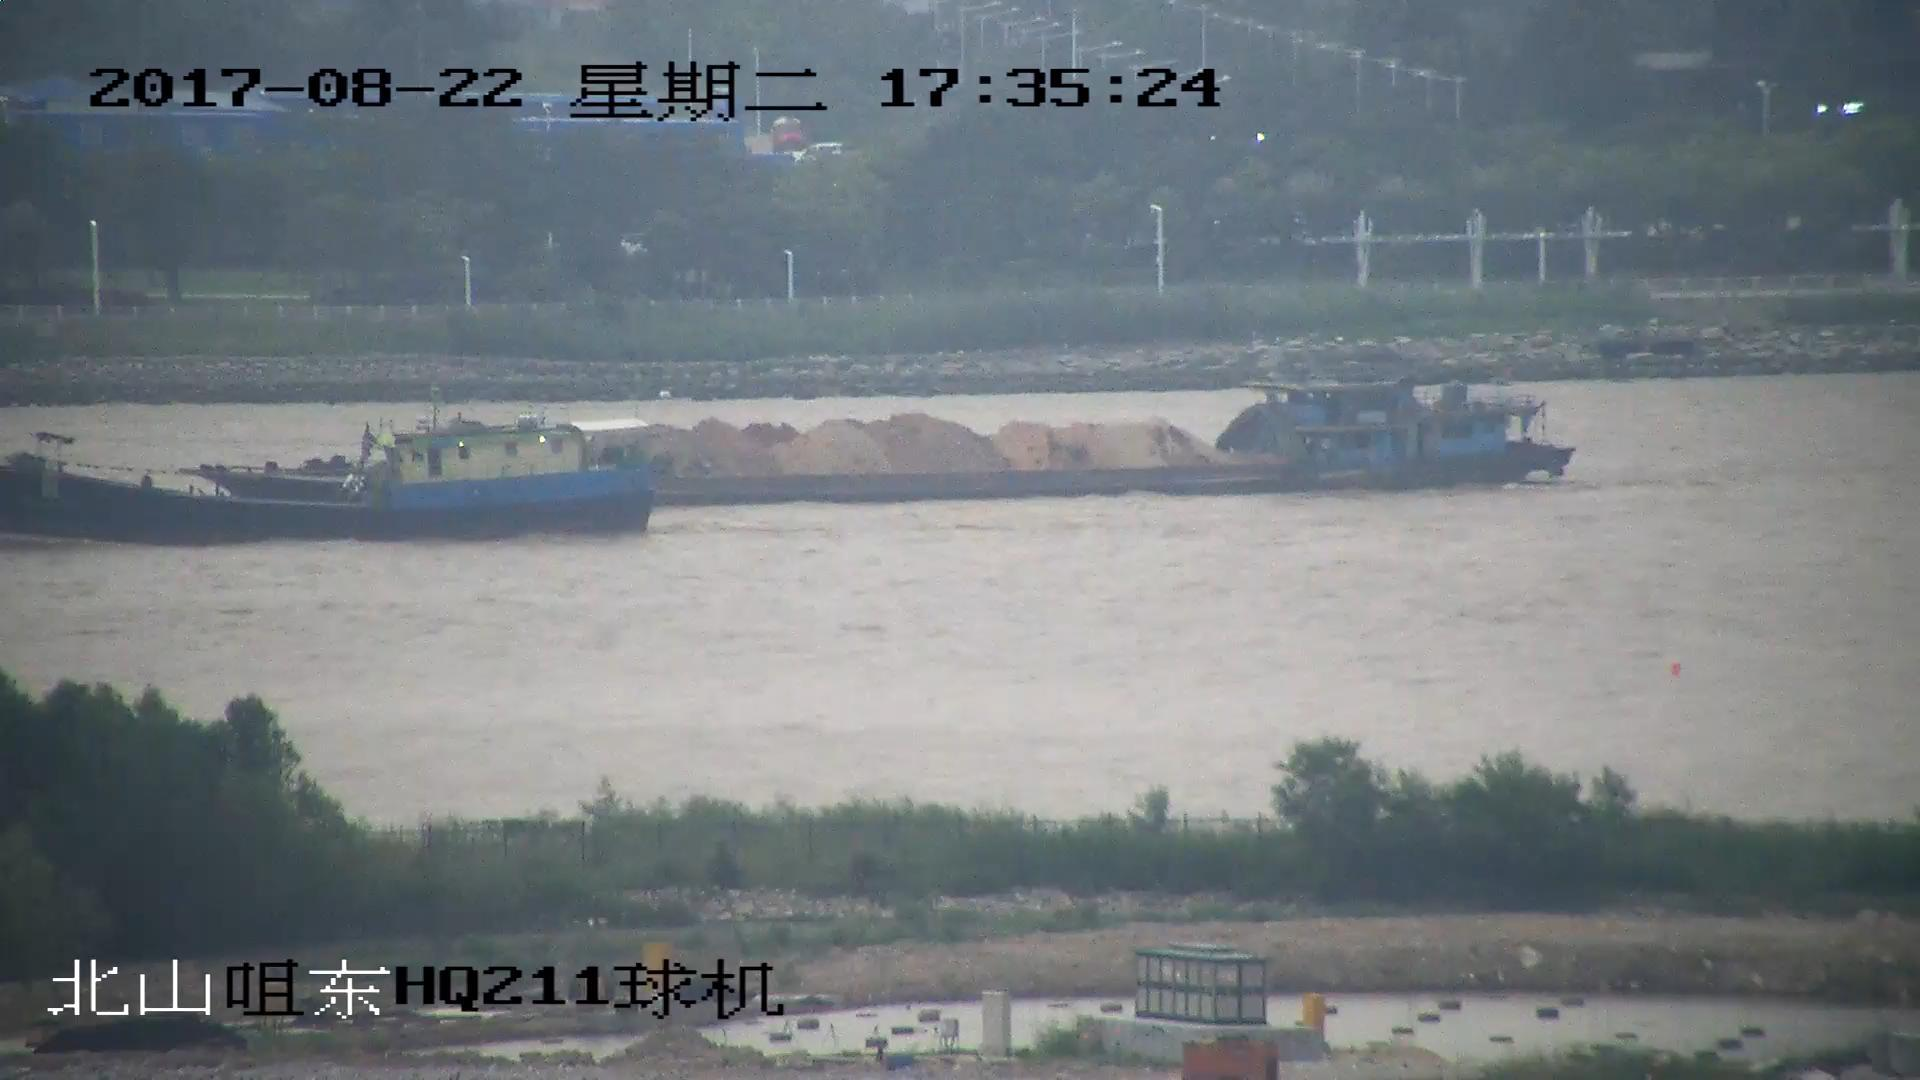Ship: (164, 372, 1573, 498), (3, 417, 662, 542)
